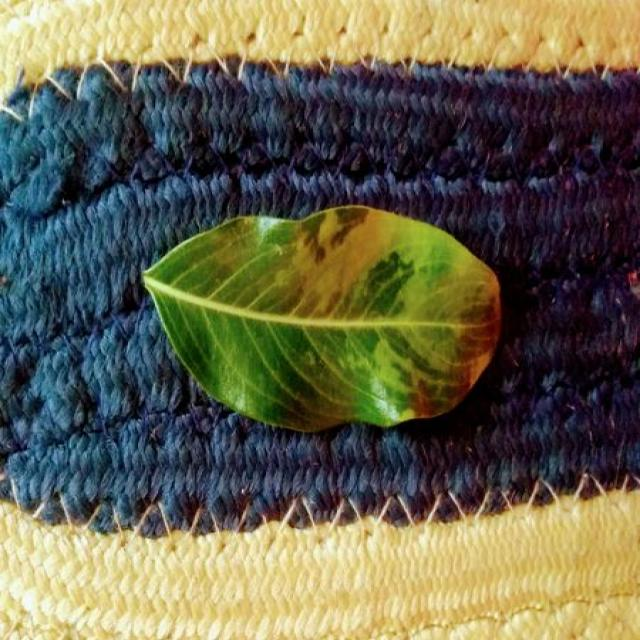catharanthus: (143, 205, 500, 431)
defectedcatharanthus: (152, 206, 500, 322)
